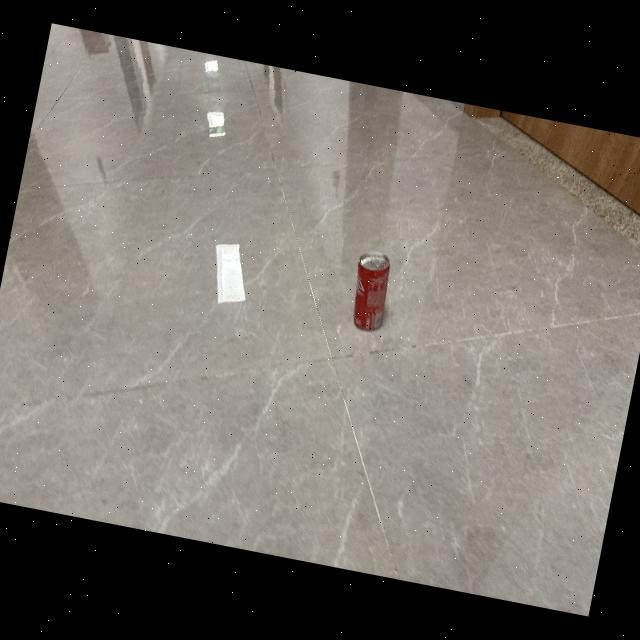Cola: (341, 246, 401, 340)
